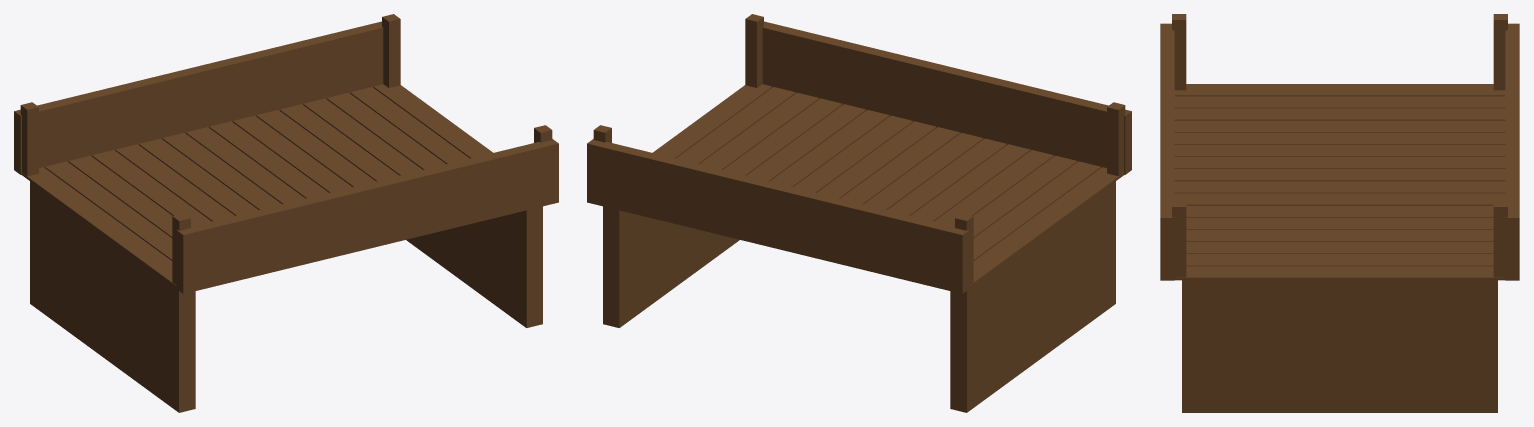
Rendered from wooden_bridge.glb.
3 renders of one model, left to right at view 1: azimuth 30°, elevation 25°; view 2: azimuth 150°, elevation 25°; view 3: azimuth 270°, elevation 25°, orthographic. The views are drawn at different scales.
Visible parts, largest first — view 1: wooden_bridge; view 2: wooden_bridge; view 3: wooden_bridge.
Part boxes in pixels (left/top/right/bottom): wooden_bridge: left=14, top=14, right=558, bottom=412; wooden_bridge: left=587, top=14, right=1131, bottom=412; wooden_bridge: left=1160, top=14, right=1519, bottom=412.
Bounding box in the file's own units: 8 × 4 × 6.25.
